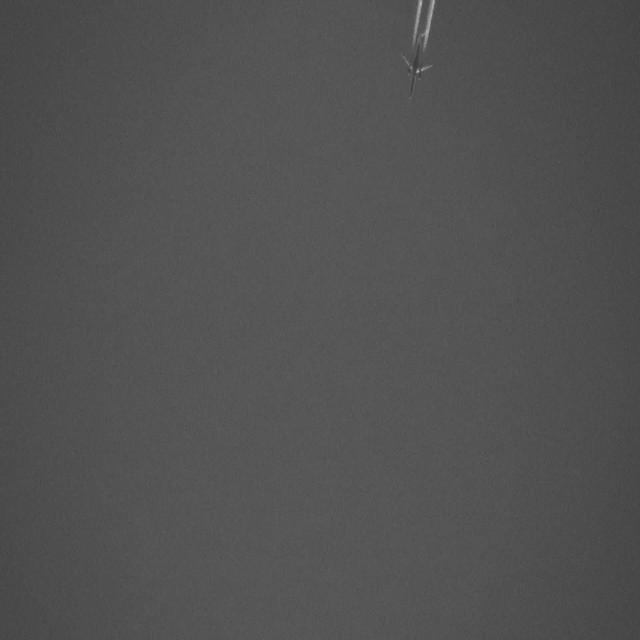aeroplane: (399, 29, 436, 110)
